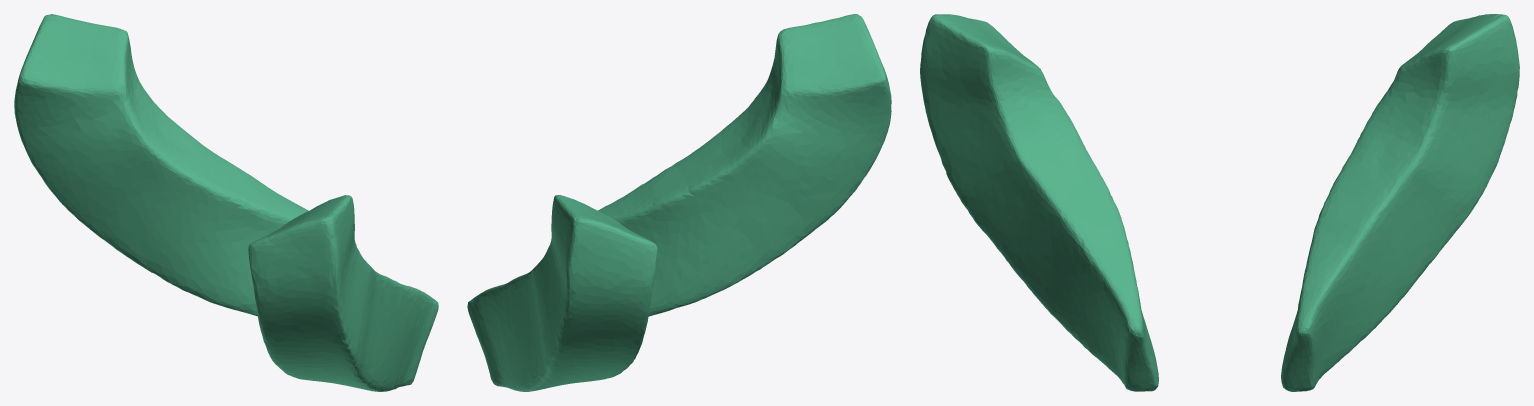
The picture shows the model from 3 angles, left to right: view 1: azimuth 30°, elevation 25°; view 2: azimuth 150°, elevation 25°; view 3: azimuth 270°, elevation 25°; orthographic projection. The views are drawn at different scales.
Parts seen in each view (by area): view 1: 985.obj; view 2: 985.obj; view 3: 985.obj.
Part boxes in pixels (<box>): 985.obj: <box>14,14,438,391</box>; 985.obj: <box>467,14,891,391</box>; 985.obj: <box>920,14,1519,391</box>.
Bounding box in the file's own units: 3735 × 3807 × 7188.
